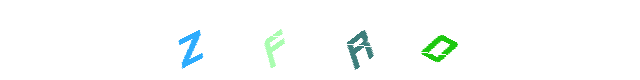0: (399, 0, 479, 80)
F: (255, 0, 335, 80)
R: (279, 0, 359, 80)
Z: (237, 0, 317, 80)
